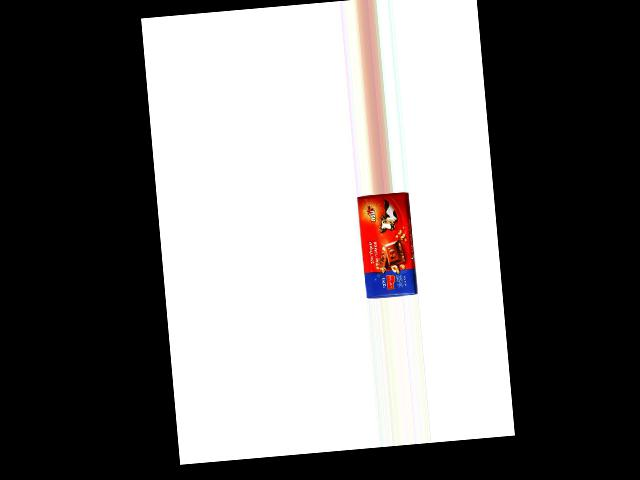chocolate: (358, 191, 421, 297)
